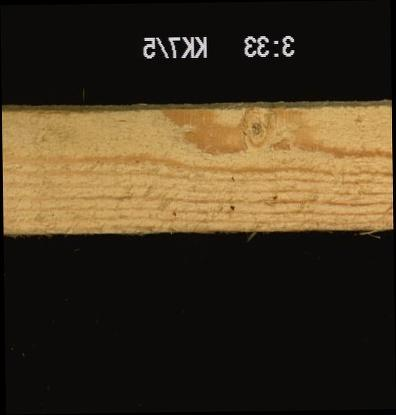sound_knot: (238, 107, 275, 148)
